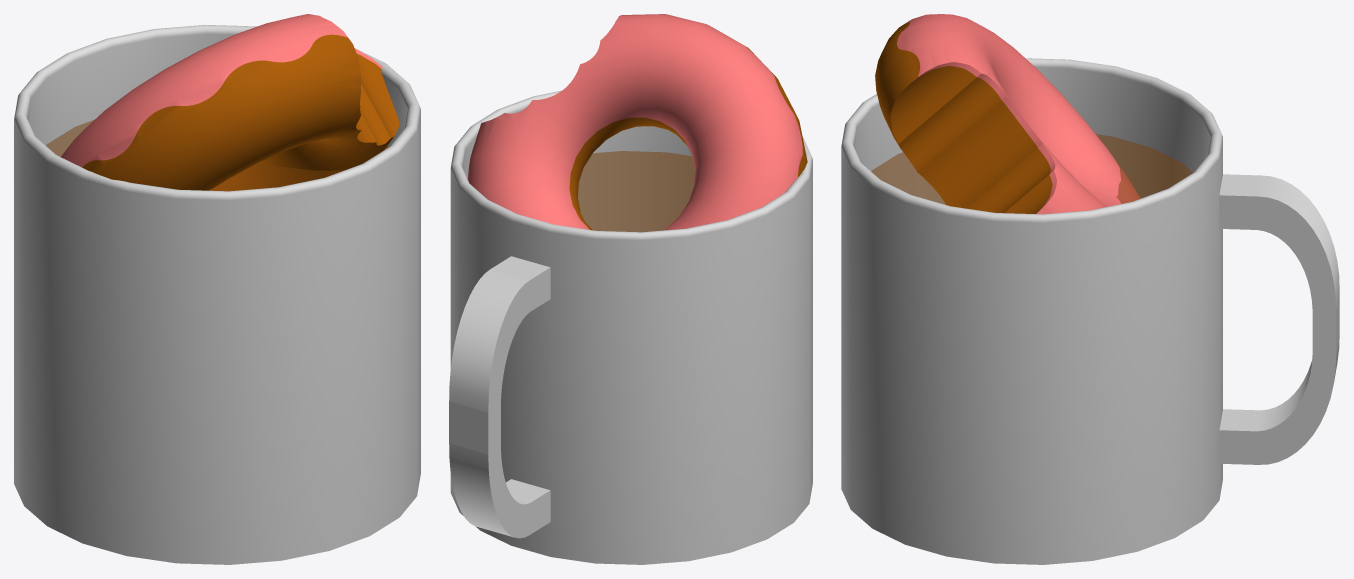
The picture shows the model from 3 angles, left to right: view 1: azimuth 30°, elevation 25°; view 2: azimuth 150°, elevation 25°; view 3: azimuth 270°, elevation 25°; orthographic projection. The views are drawn at different scales.
Visible parts, largest first — view 1: mesh2_mesh2-geometry, mesh8_mesh8-geometry_1, mesh8_mesh8-geometry_2, mesh2_mesh2-geometry_2; view 2: mesh2_mesh2-geometry, mesh8_mesh8-geometry_2, mesh1_mesh1-geometry, mesh2_mesh2-geometry_2, mesh8_mesh8-geometry_1; view 3: mesh2_mesh2-geometry, mesh8_mesh8-geometry_1, mesh1_mesh1-geometry, mesh8_mesh8-geometry_2, mesh2_mesh2-geometry_2.
Part boxes in pixels (bbox=[...]): mesh2_mesh2-geometry: bbox=[14, 25, 420, 564]; mesh8_mesh8-geometry_1: bbox=[82, 34, 399, 191]; mesh8_mesh8-geometry_2: bbox=[61, 14, 382, 167]; mesh2_mesh2-geometry_2: bbox=[46, 120, 388, 191]; mesh2_mesh2-geometry: bbox=[450, 90, 812, 564]; mesh8_mesh8-geometry_2: bbox=[467, 14, 802, 230]; mesh1_mesh1-geometry: bbox=[449, 256, 550, 538]; mesh2_mesh2-geometry_2: bbox=[578, 151, 694, 232]; mesh8_mesh8-geometry_1: bbox=[569, 27, 807, 230]; mesh2_mesh2-geometry: bbox=[841, 58, 1222, 564]; mesh8_mesh8-geometry_1: bbox=[875, 22, 1052, 213]; mesh1_mesh1-geometry: bbox=[1219, 174, 1339, 464]; mesh8_mesh8-geometry_2: bbox=[897, 14, 1140, 214]; mesh2_mesh2-geometry_2: bbox=[871, 134, 1192, 204].
Size of the model in its own units: 0.4747 by 0.625 by 0.6197.
